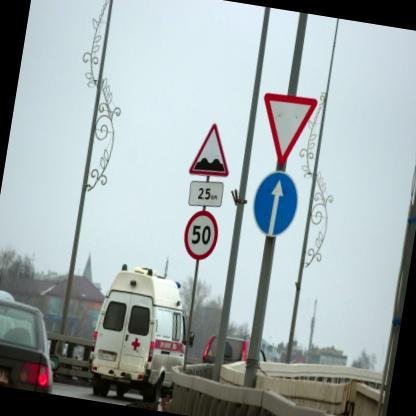road_sign: (264, 93, 317, 165), (254, 171, 297, 236), (189, 124, 228, 175), (184, 210, 218, 260), (188, 181, 223, 207)
